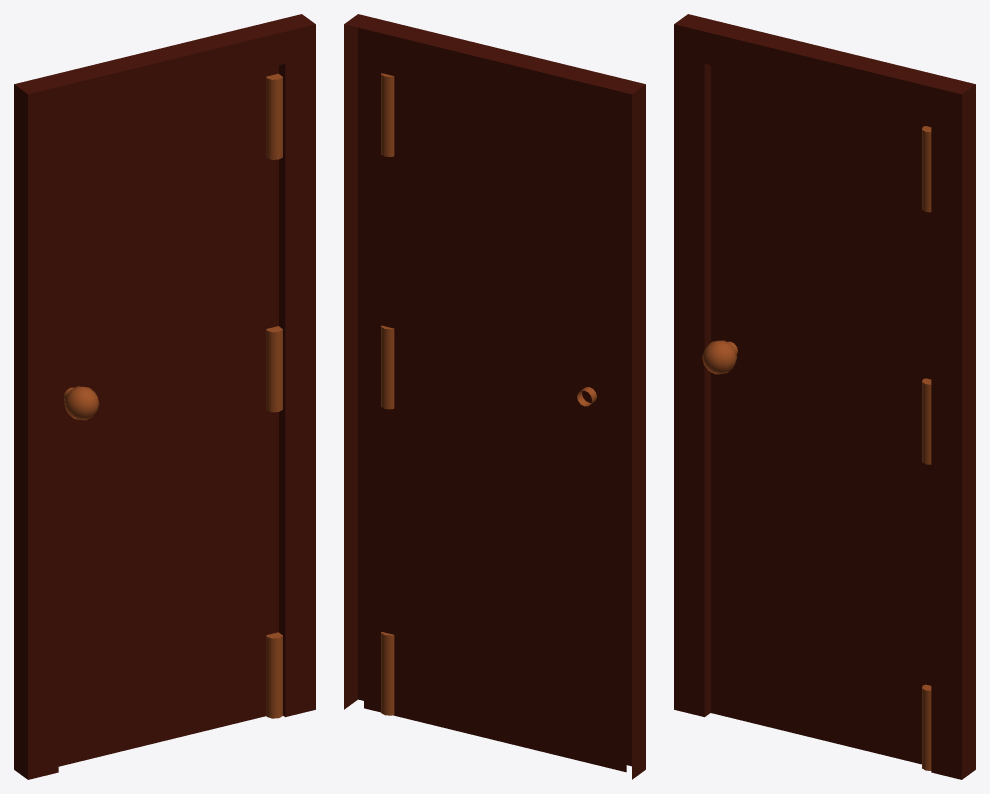
The model's file is Porte.fbx.
3 renders of one model, left to right at view 1: azimuth 30°, elevation 25°; view 2: azimuth 150°, elevation 25°; view 3: azimuth 330°, elevation 25°, orthographic.
Parts seen in each view (by area): view 1: Porte; view 2: Porte; view 3: Porte.
Boxes of the visible parts, <box> form: Porte: <box>14,14,315,779</box>; Porte: <box>344,14,645,779</box>; Porte: <box>674,14,975,779</box>.
Size of the model in its own units: 94 by 15.19 by 214.
